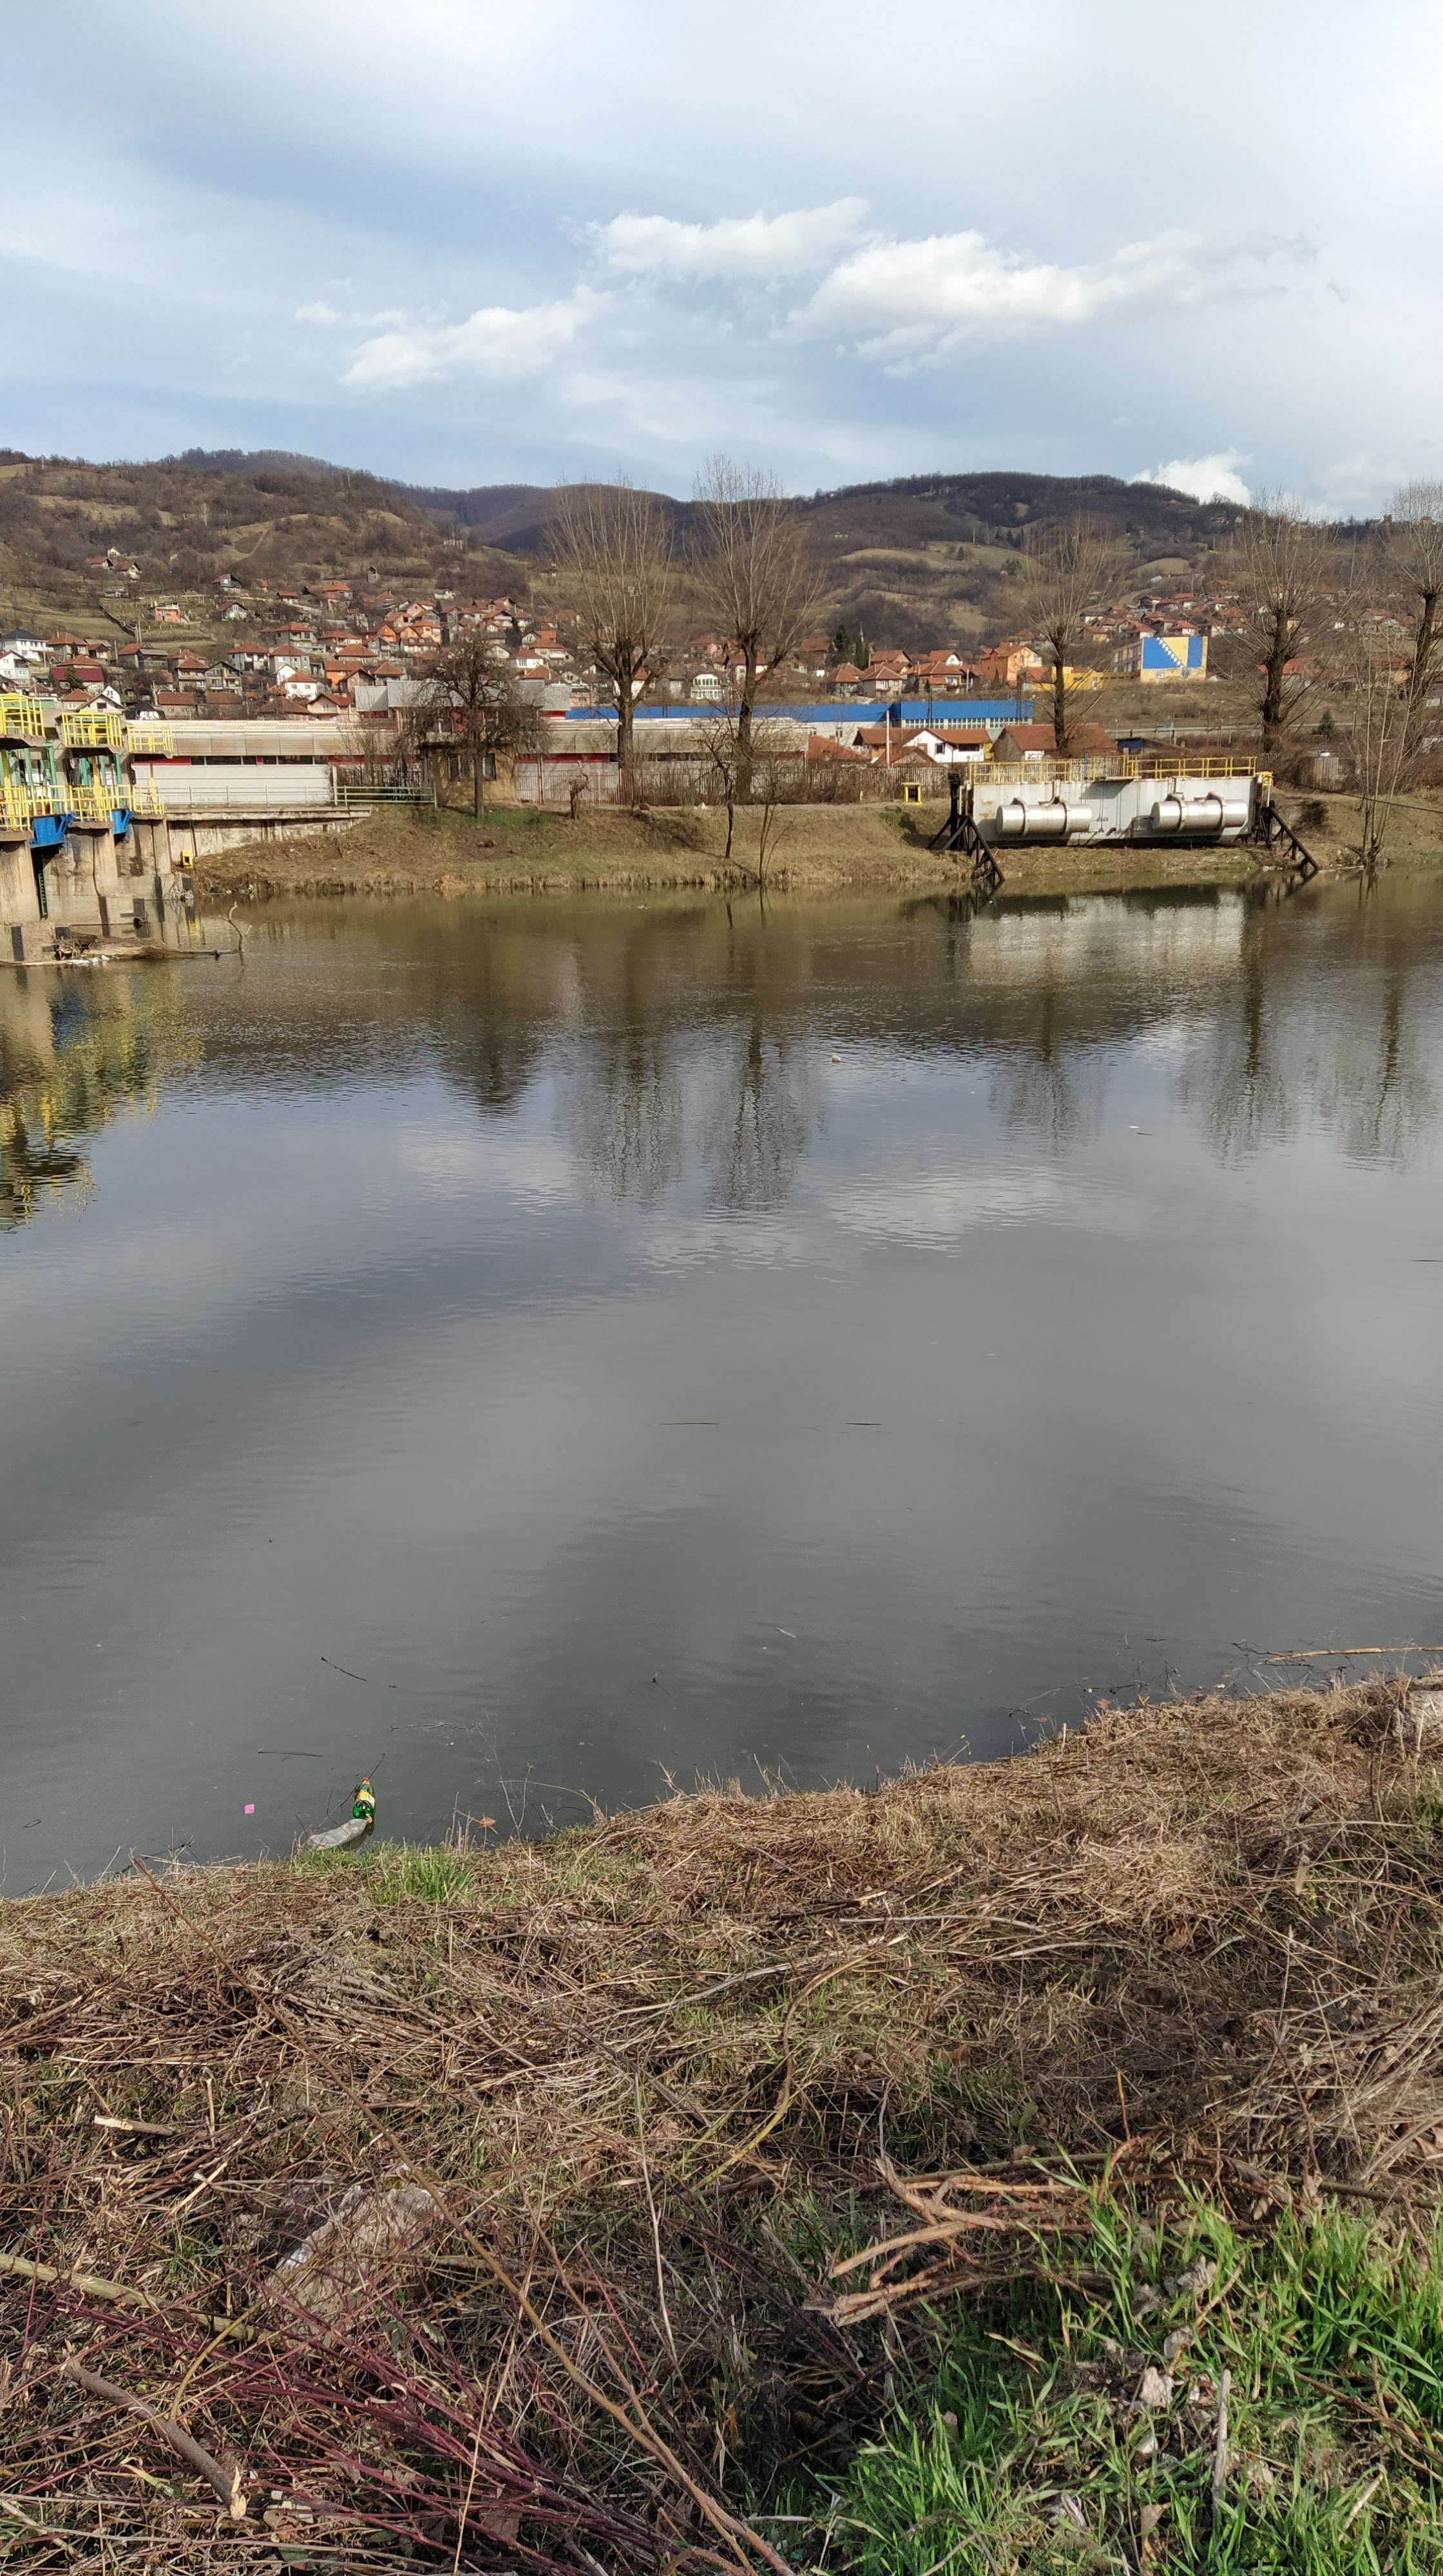Plastic Bottle: (305, 1817, 374, 1852), (354, 1776, 375, 1819), (832, 1054, 841, 1062)
